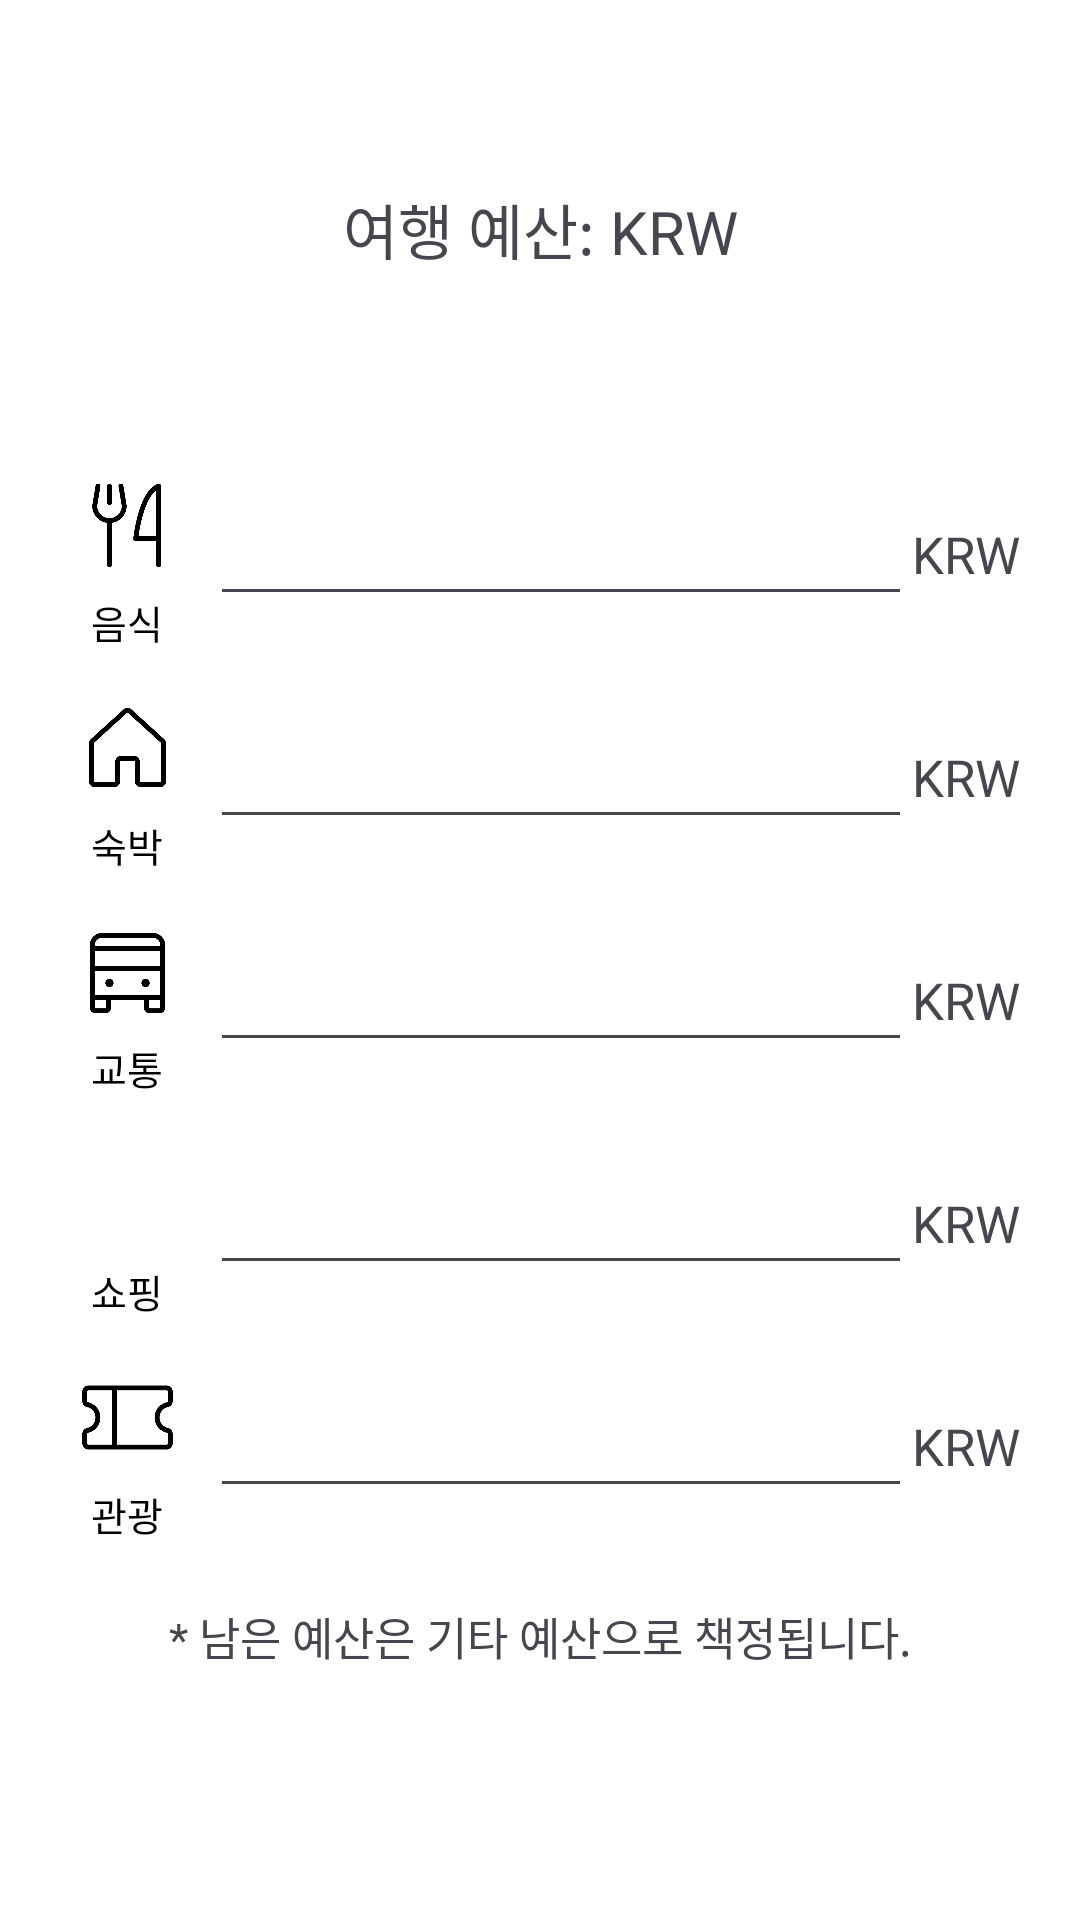

Named icons in this screenshot (1080px x 1920px) and their centers, (x,y):
bus: (127,973)
house: (127,747)
